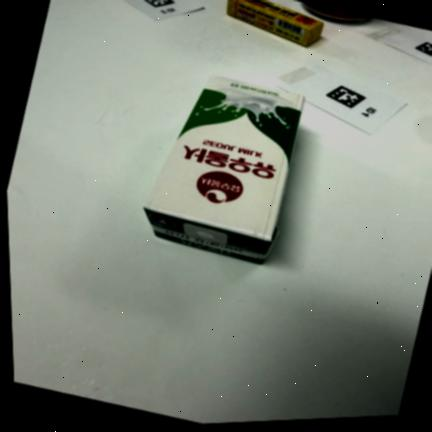milk_green: (143, 76, 304, 263)
